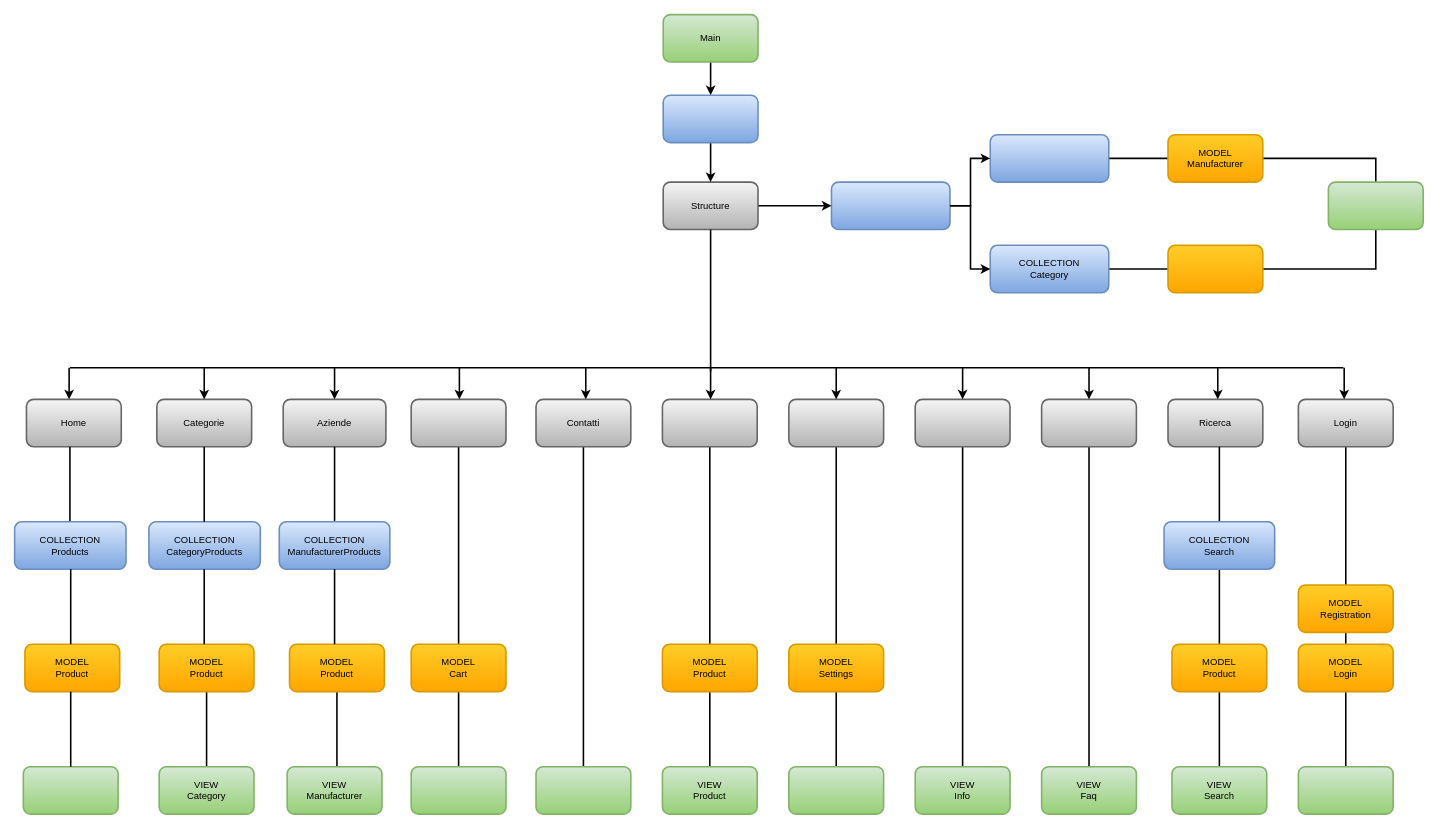
Some shapes in this 1437 by 828 pixel diagram are drawn without their labels. Here are the shapes that lost their labels. From the top down, the box of each, then its label:
(662, 94, 758, 143): Router
(989, 134, 1109, 182): COLLECTION Manufacturers
(830, 181, 950, 230): COLLECTION Structure
(1327, 181, 1424, 230): VIEW Structure
(1167, 244, 1263, 293): MODEL Category
(410, 398, 506, 447): Carrello
(661, 398, 758, 447): Prodotto
(788, 398, 884, 447): Impostazioni
(914, 398, 1010, 447): Come Funziona
(1040, 398, 1137, 447): Faq
(22, 766, 118, 814): VIEW Home
(410, 766, 506, 814): VIEW Cart
(535, 766, 631, 814): VIEW Contact
(788, 766, 884, 814): VIEW Settings
(1297, 766, 1394, 814): VIEW Login
